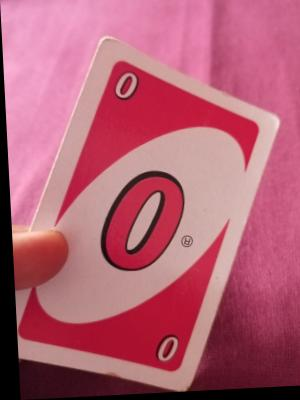num_0: (144, 326, 181, 372), (110, 66, 143, 107)
red: (0, 38, 287, 400)
